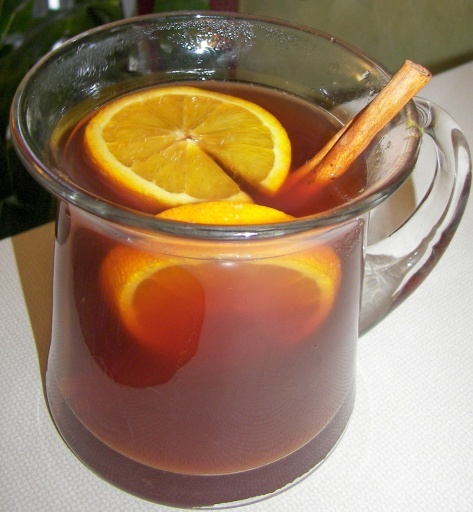background: (35, 66, 271, 380)
